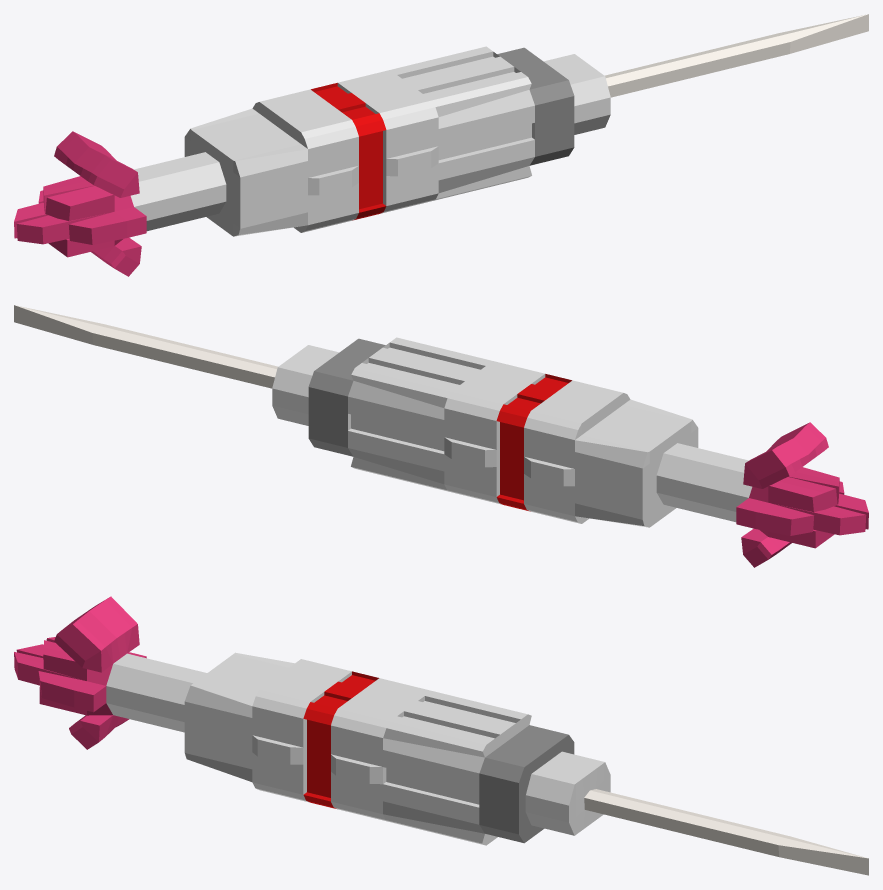
File: arrow.fbx
3 renders of one model, top to bottom at view 1: azimuth 30°, elevation 25°; view 2: azimuth 150°, elevation 25°; view 3: azimuth 330°, elevation 25°, orthographic.
Visible parts, largest first — view 1: Cube; view 2: Cube; view 3: Cube.
Part boxes in pixels (bbox=[...]): Cube: bbox=[14, 14, 868, 276]; Cube: bbox=[14, 305, 868, 567]; Cube: bbox=[14, 596, 868, 875].
Size of the model in its own units: 1773 by 239 by 222.
